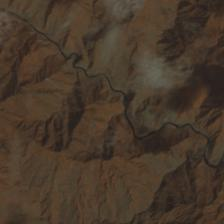landslides: (43, 78, 66, 91), (35, 106, 49, 116), (4, 42, 12, 56)
